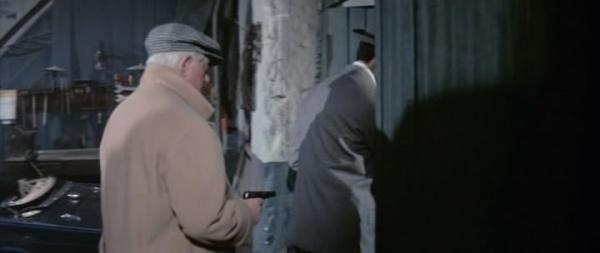Gun: (243, 189, 277, 201)
